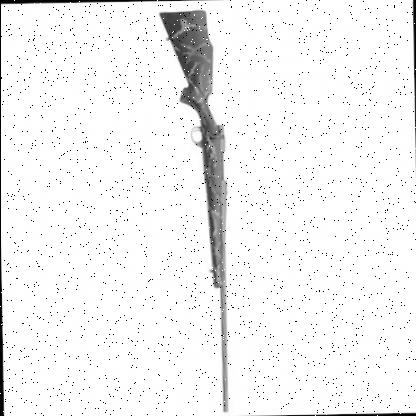rifle: (161, 8, 239, 414)
